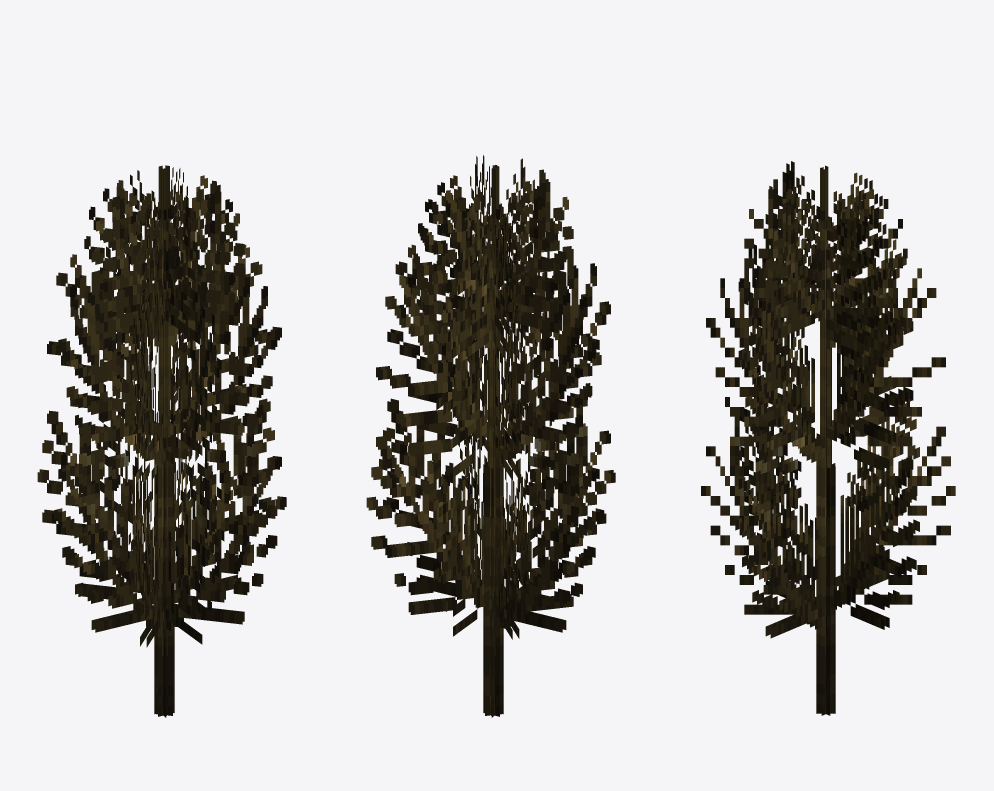
Rendered from bush05_winter.glb.
The picture shows the model from 3 angles, left to right: view 1: azimuth 30°, elevation 25°; view 2: azimuth 150°, elevation 25°; view 3: azimuth 270°, elevation 25°; orthographic projection.
Visible parts, largest first — view 1: bush05; view 2: bush05; view 3: bush05.
Boxes of the visible parts, x1,y1,x2,y2 form: bush05: (37,165,286,717); bush05: (366,155,615,717); bush05: (701,161,955,715).
Bounding box in the file's own units: 0.66 × 1.5 × 0.66.
Materials: 1 (1 with a texture image).
